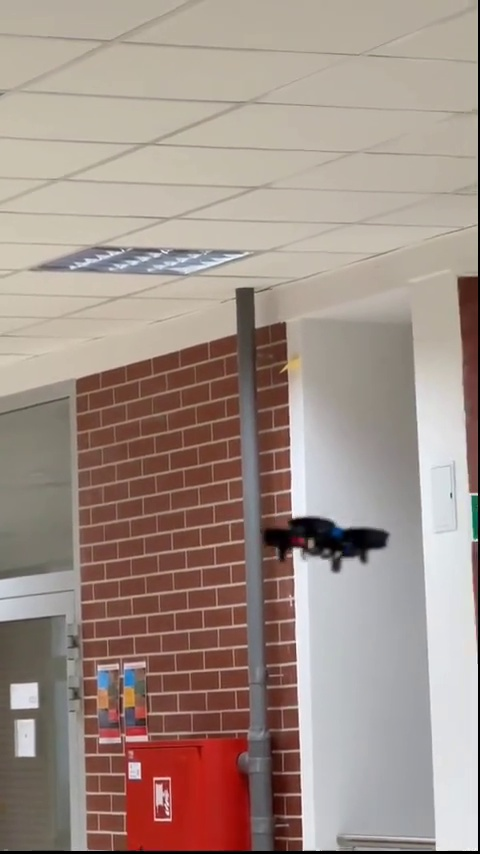drone: (268, 515, 392, 570)
